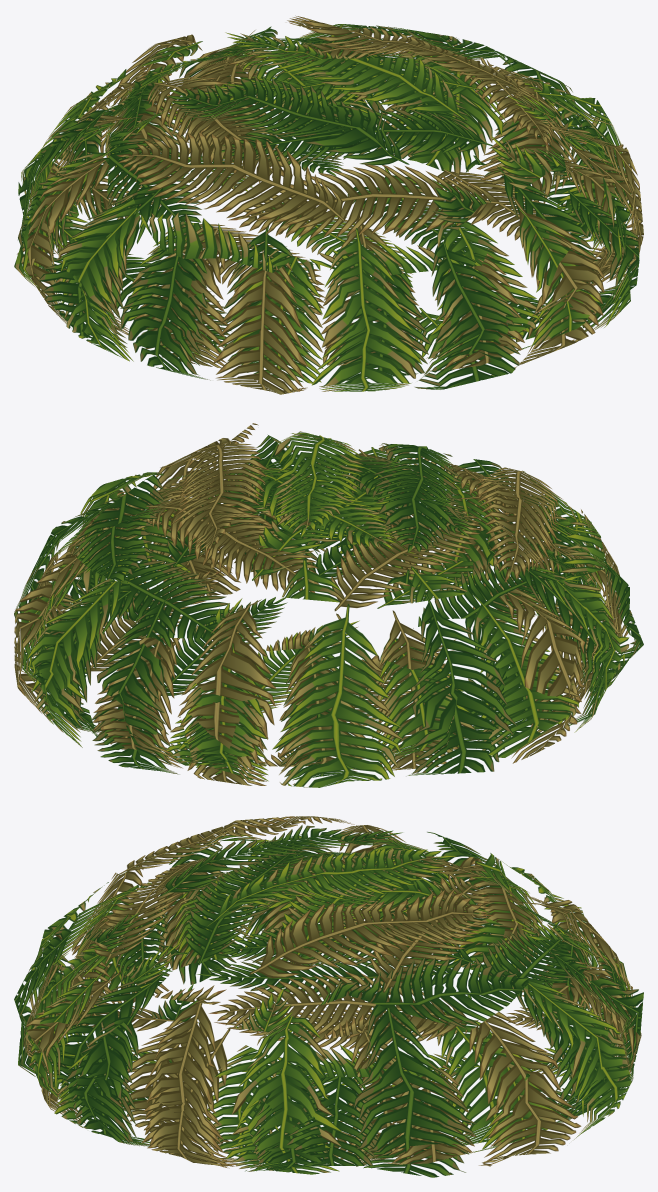
Rendered from SM_Env_Bush_01.glb.
The picture shows the model from 3 angles, top to bottom: view 1: azimuth 30°, elevation 25°; view 2: azimuth 150°, elevation 25°; view 3: azimuth 270°, elevation 25°; orthographic projection. The views are drawn at different scales.
Parts seen in each view (by area): view 1: SM_Env_Bush_01_LOD0; view 2: SM_Env_Bush_01_LOD0; view 3: SM_Env_Bush_01_LOD0.
Boxes of the visible parts, <box> form: SM_Env_Bush_01_LOD0: <box>14,15,643,394</box>; SM_Env_Bush_01_LOD0: <box>14,423,643,787</box>; SM_Env_Bush_01_LOD0: <box>14,816,643,1177</box>.
Size of what is drawn, in the model's own units: 2.09 by 0.813 by 2.12.
Materials: 1 (1 with a texture image).
